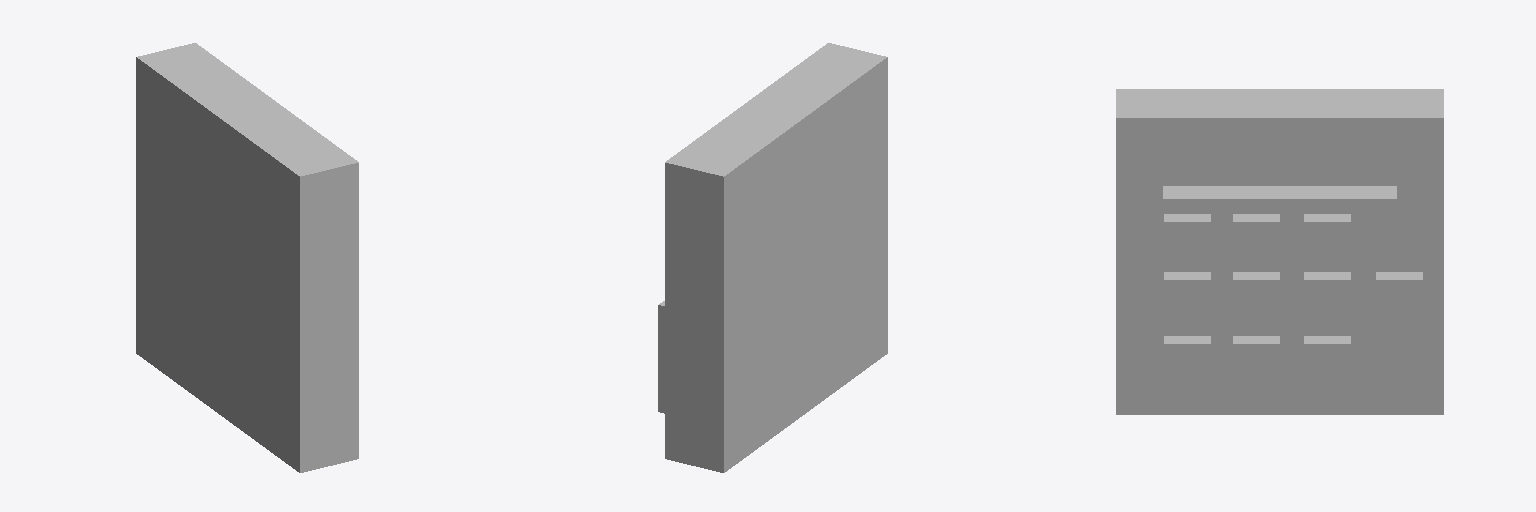
The model's file is panel_propio.obj.
3 views of the same model, side by side, from view 1: azimuth 30°, elevation 25°; view 2: azimuth 150°, elevation 25°; view 3: azimuth 270°, elevation 25° (orthographic).
Parts seen in each view (by area): view 1: Cube; view 2: Cube, Cubo.009; view 3: Cube, Cubo.009, Cubo.003, Cubo.004, Cubo.005, Cubo.006, Cubo.007, Cubo.008, Cubo, Cubo.001, Cubo.002.
Boxes of the visible parts, <box> form: Cube: <box>136,43,358,472</box>; Cube: <box>665,43,887,472</box>; Cubo.009: <box>658,301,664,413</box>; Cube: <box>1116,89,1443,414</box>; Cubo.009: <box>1376,272,1422,386</box>; Cubo.003: <box>1304,272,1350,322</box>; Cubo.004: <box>1164,272,1210,322</box>; Cubo.005: <box>1233,272,1279,322</box>; Cubo.006: <box>1304,336,1350,386</box>; Cubo.007: <box>1164,336,1210,386</box>; Cubo.008: <box>1233,336,1279,386</box>; Cubo: <box>1233,214,1279,263</box>; Cubo.001: <box>1164,214,1210,263</box>; Cubo.002: <box>1304,214,1350,263</box>.
Bounding box in the file's own units: 0.805 × 3.02 × 3.02.